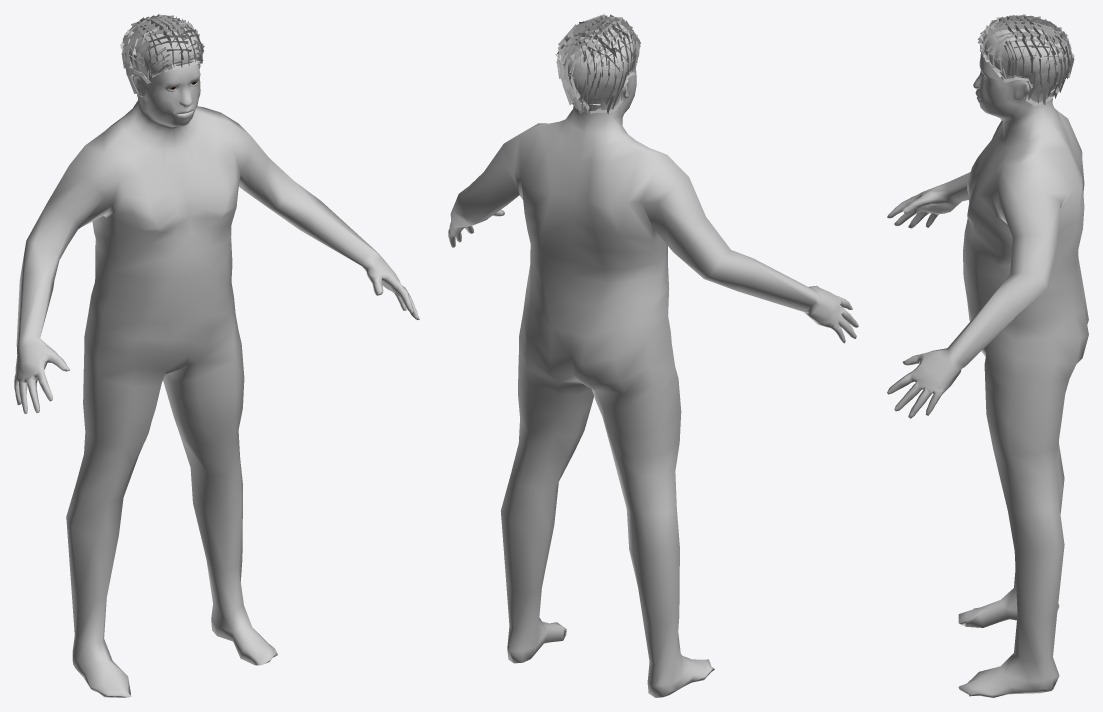
Rendered from npc13.fbx.
3 renders of one model, left to right at view 1: azimuth 30°, elevation 25°; view 2: azimuth 150°, elevation 25°; view 3: azimuth 270°, elevation 25°, orthographic.
Visible parts, largest first — view 1: male1591Mesh, afro01Mesh; view 2: male1591Mesh, afro01Mesh; view 3: male1591Mesh, afro01Mesh.
Boxes of the visible parts, x1,y1,x2,y2 form: male1591Mesh: (14,64,419,697); afro01Mesh: (120,14,204,96); male1591Mesh: (448,64,858,697); afro01Mesh: (555,14,640,114); male1591Mesh: (887,55,1088,697); afro01Mesh: (977,14,1074,106).
Bounding box in the file's own units: 11.15 × 17.32 × 4.97.
